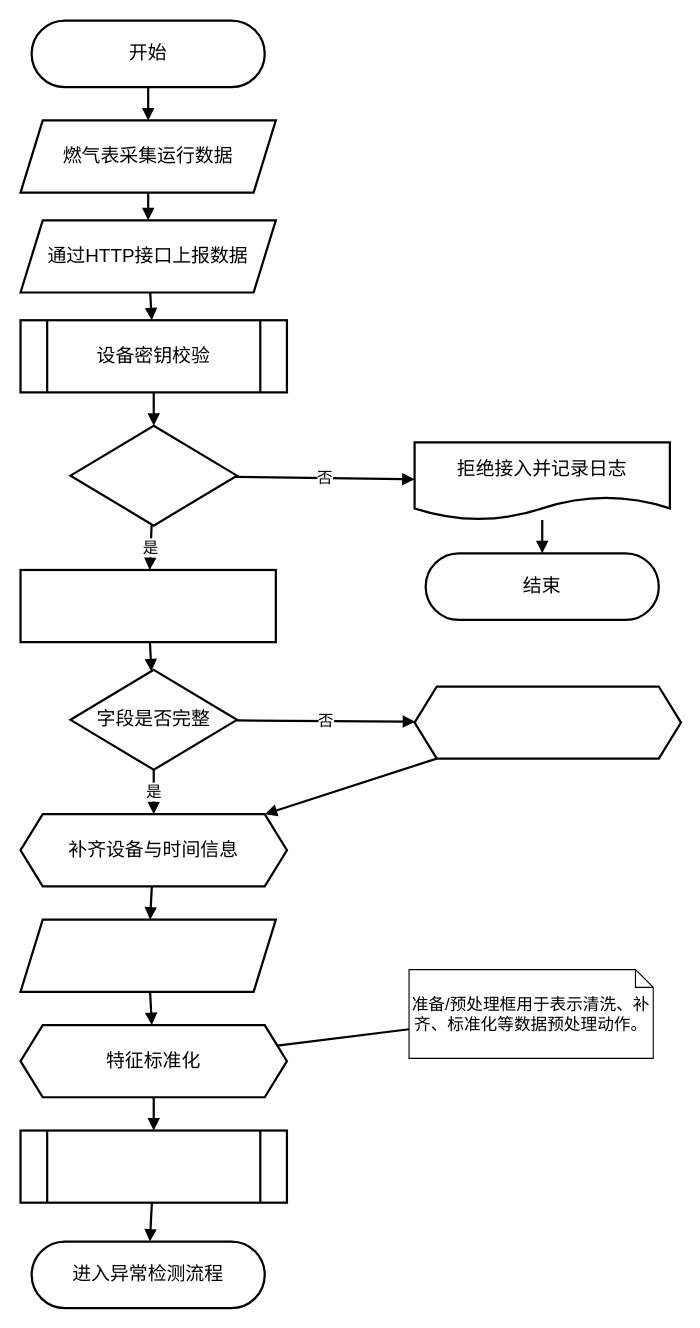
Some shapes in this 700 by 1328 pixel diagram are drawn without their labels. The centre of each missing label's shape, as x and y in pixels:
"写入原始物理数据" goes at (x=147, y=955).
"时间窗口构造" goes at (x=153, y=1166).
"缺失值处理与格式修正" goes at (x=547, y=722).
"解析上报字段" goes at (x=147, y=605).
"设备是否合法" goes at (x=153, y=475).
